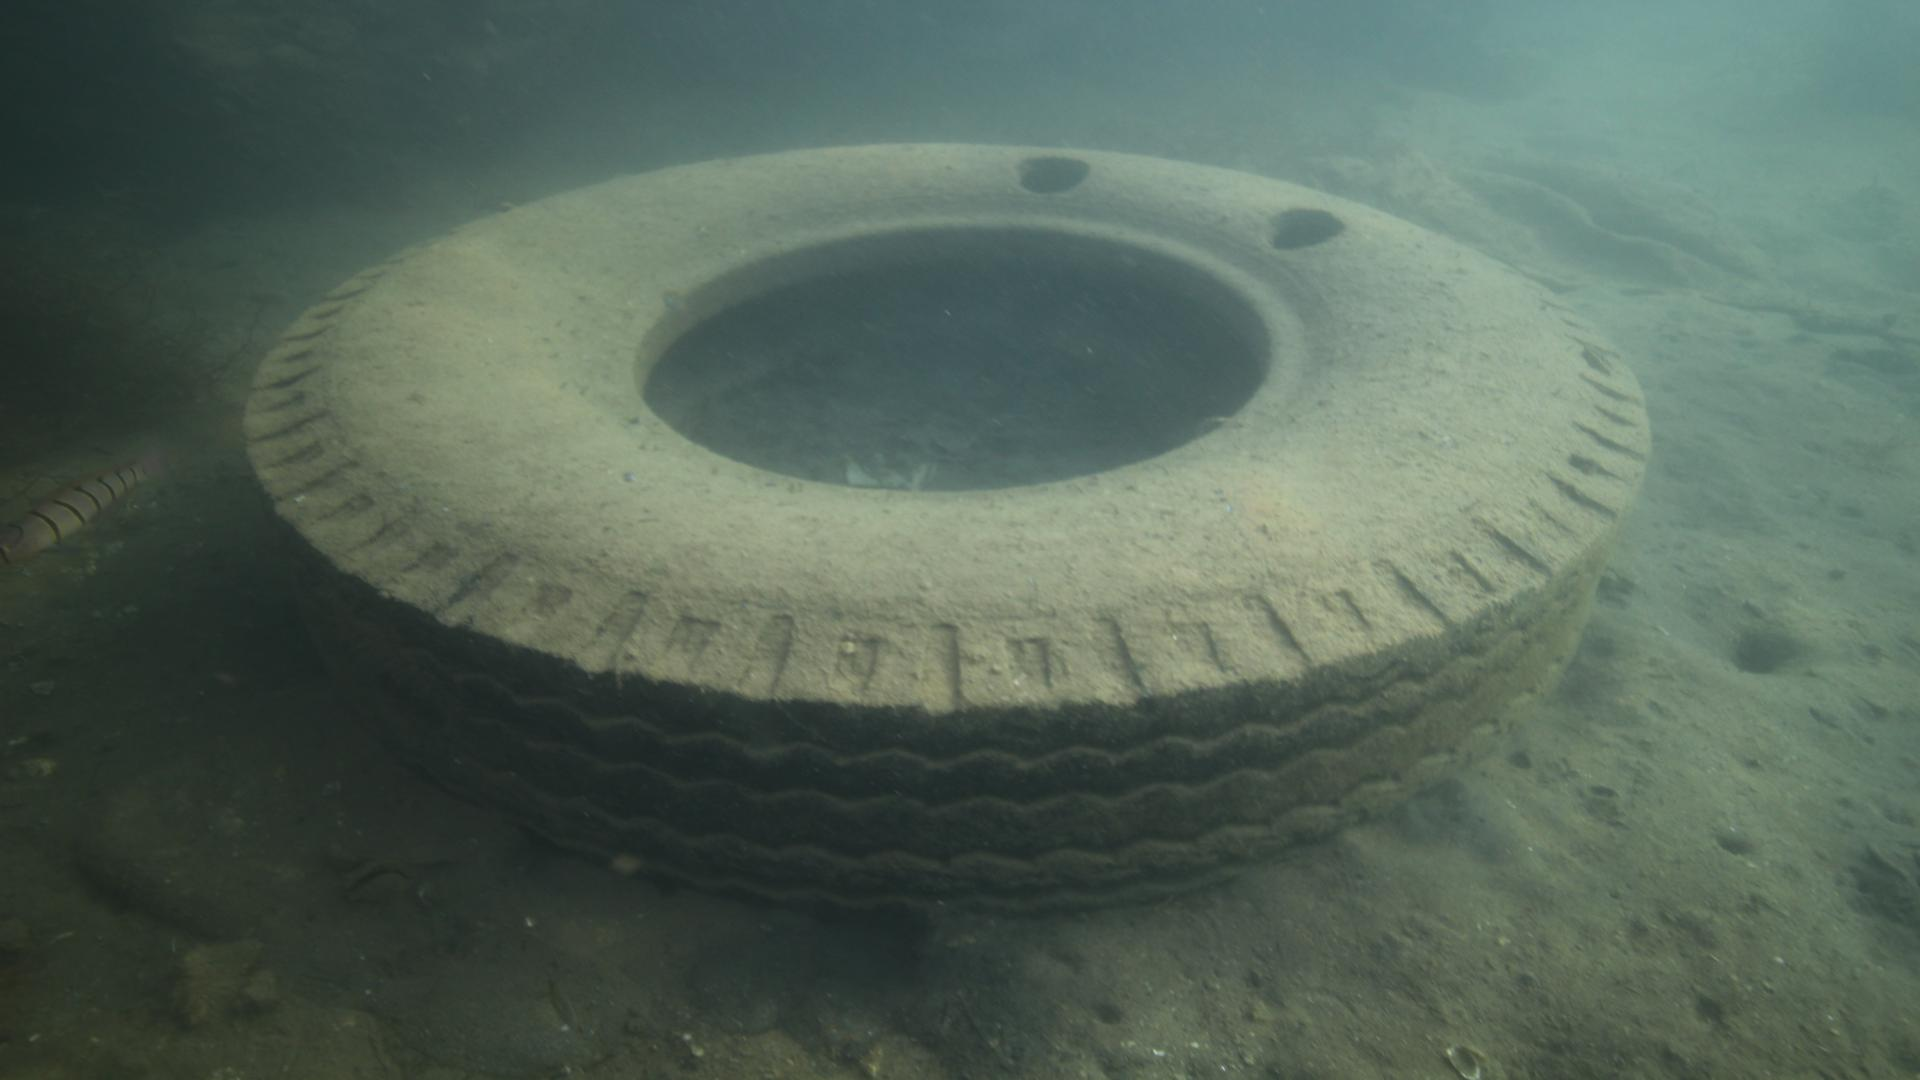tire: (243, 140, 1651, 916)
